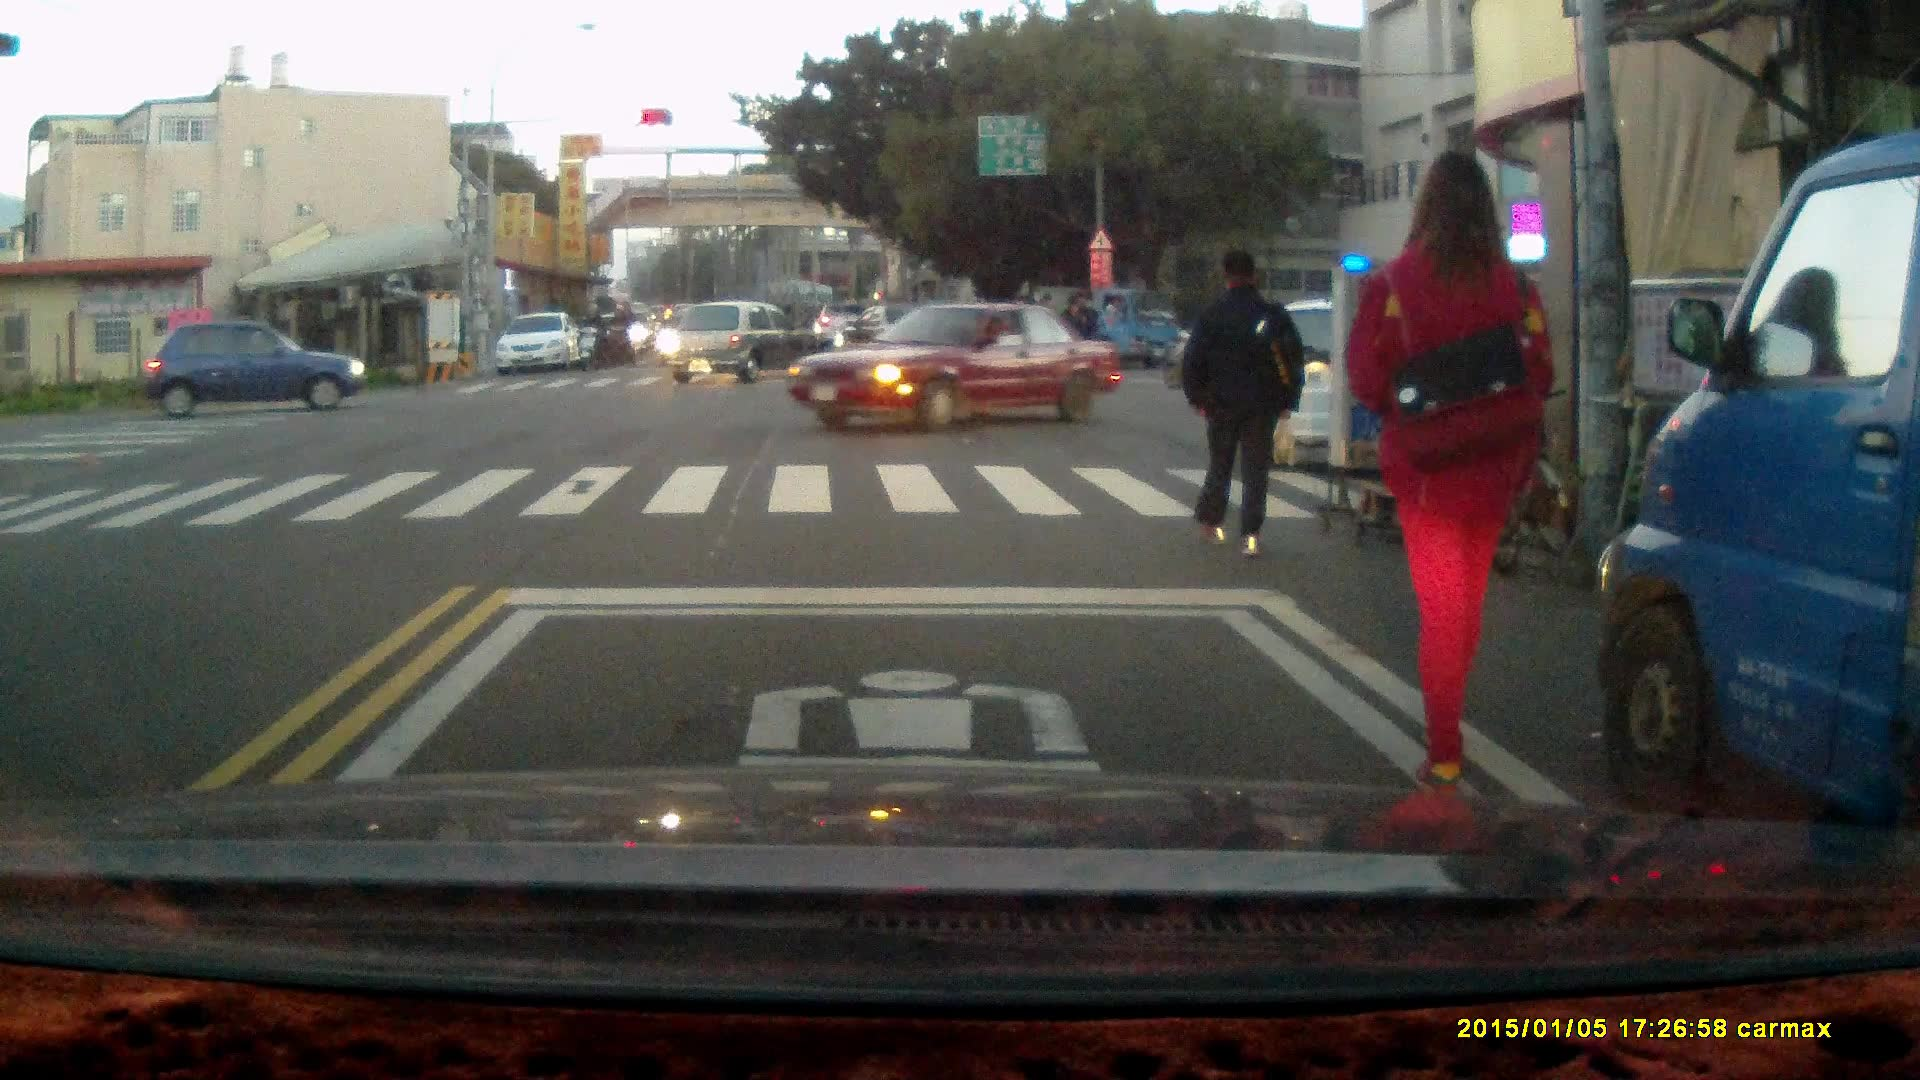pedestrian: (1346, 143, 1558, 784), (1180, 247, 1305, 555), (1068, 291, 1097, 369), (1058, 300, 1083, 366)
rider: (575, 302, 607, 369), (603, 302, 632, 362)
vehicle: (1598, 132, 1920, 859), (1233, 296, 1533, 459), (798, 302, 1113, 430), (139, 320, 364, 418), (1002, 284, 1194, 367), (661, 302, 820, 388), (498, 313, 586, 377)
